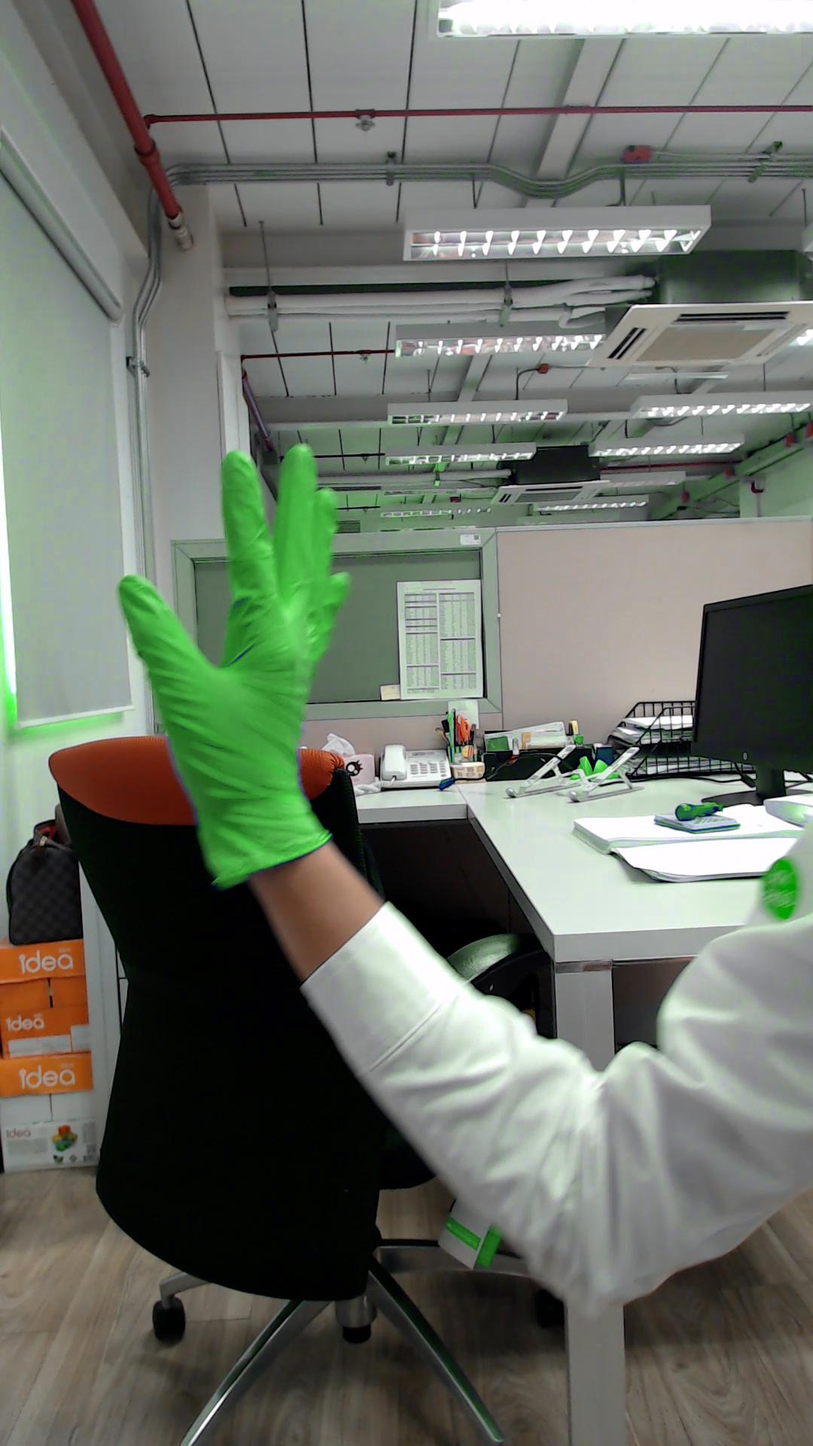gloves: (114, 433, 358, 768)
